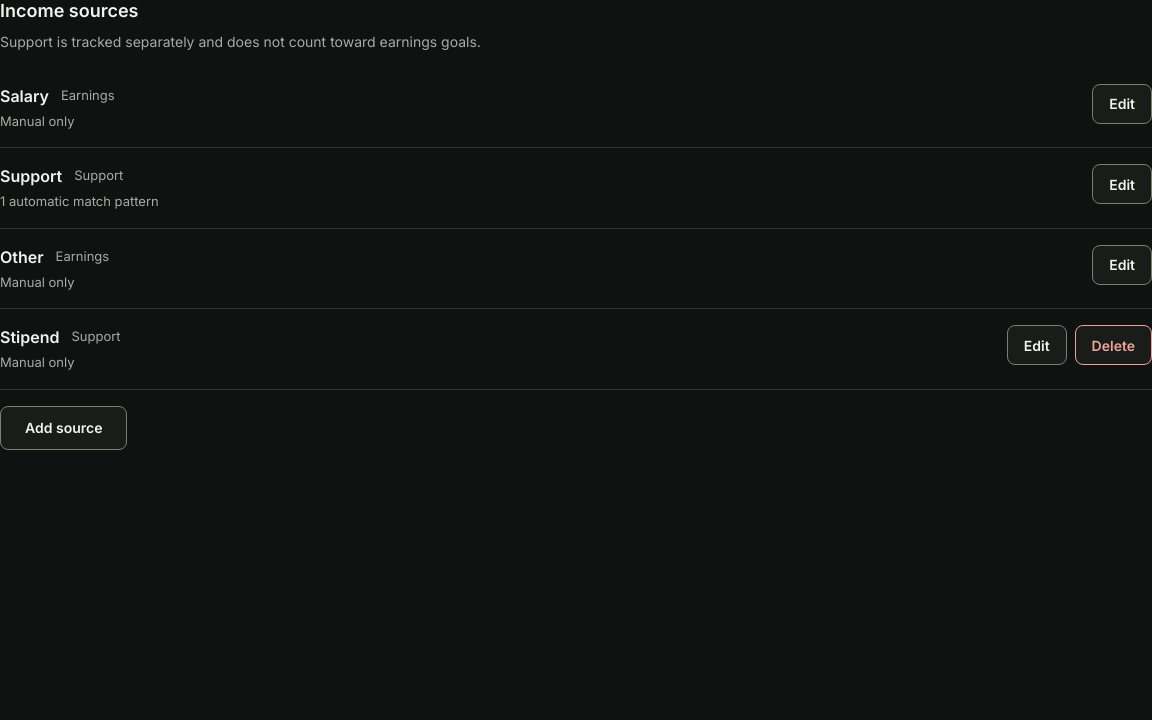
Test case: IncomeSourcesBlock › does not invalidate or refresh the catalog after a rejected pending write
Expected: the button "Add source" is shown, [0,406,128,450]
Click the button with aria-label "Edit Stipend" at [1037, 345], box [1007,325,1067,365]
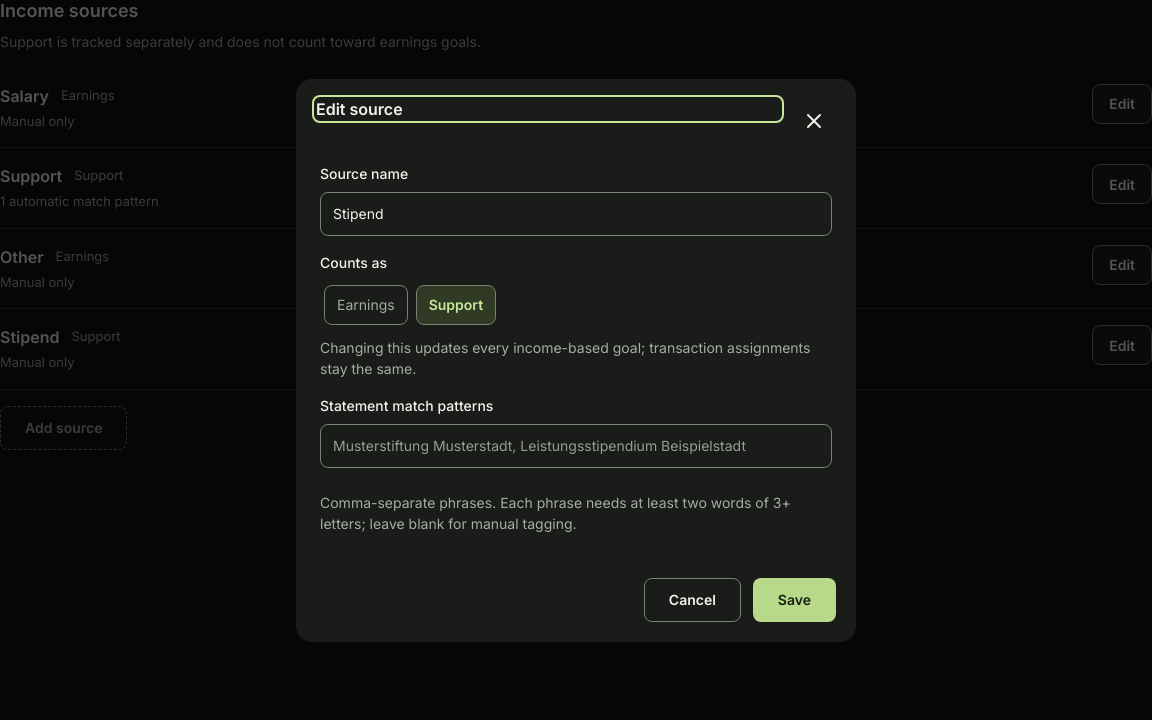
Click the button "Save" at [794, 600], box [753,578,836,622]
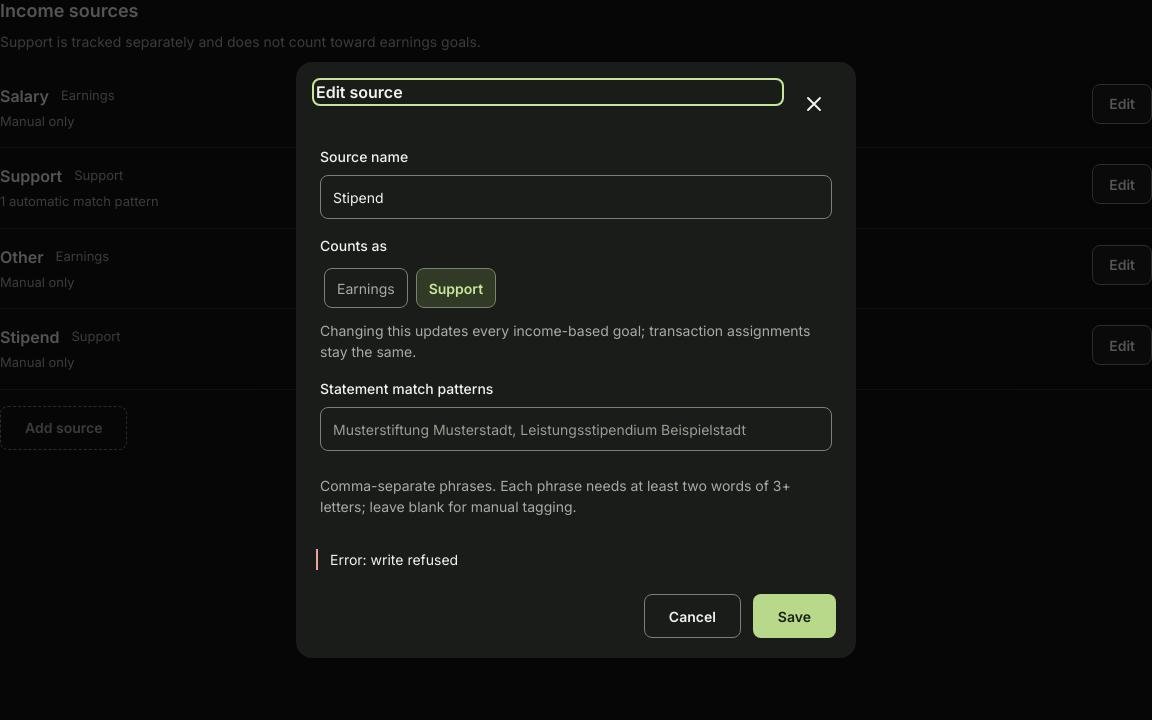
Result: the message shows "write refused" at [371,551,458,568]
